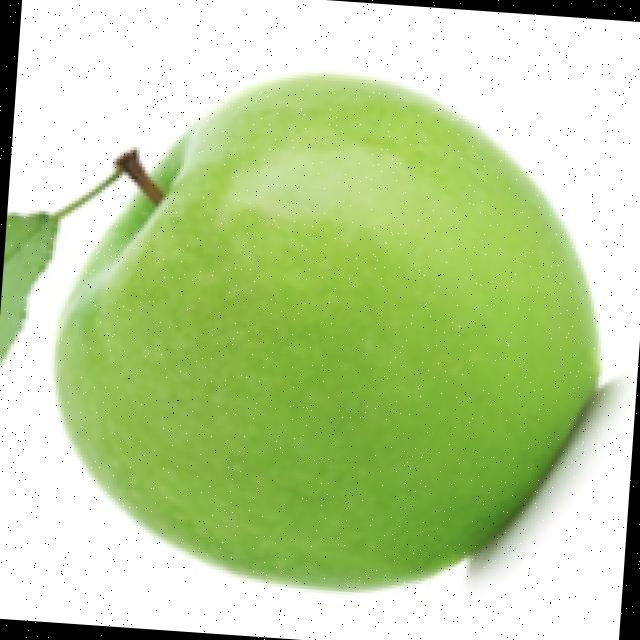apple: (36, 66, 631, 595)
